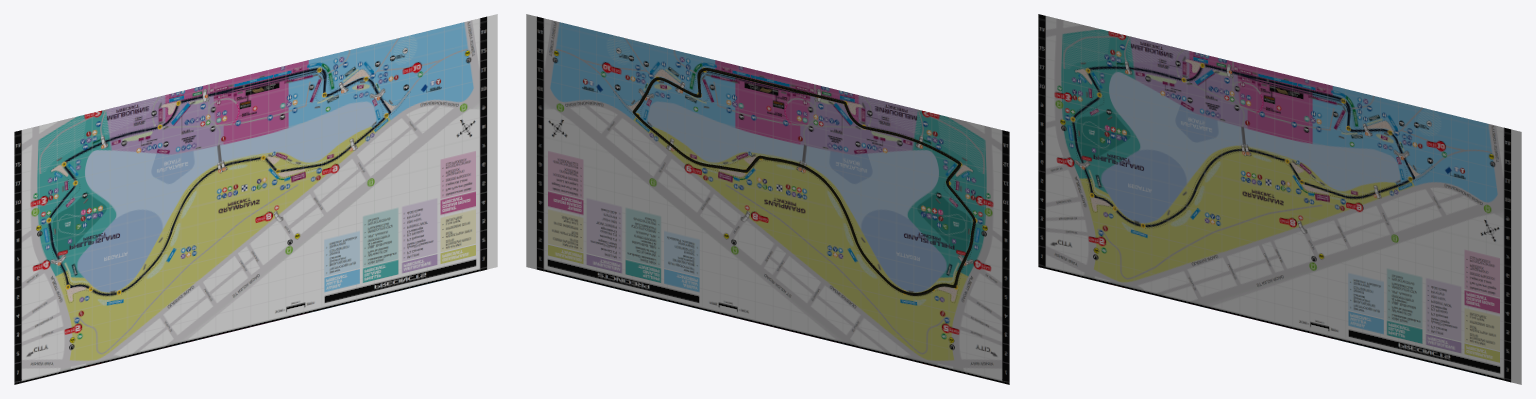
Rendered from AlbertParkAll.fbx.
3 views of the same model, side by side, from view 1: azimuth 30°, elevation 25°; view 2: azimuth 150°, elevation 25°; view 3: azimuth 330°, elevation 25° (orthographic).
Parts seen in each view (by area): view 1: 3_Map; view 2: 3_Map, 1_Track, 2_Skirt; view 3: 3_Map.
Boxes of the visible parts, x1,y1,x2,y2 form: 3_Map: (14,14,497,384); 3_Map: (526,14,1009,384); 1_Track: (633,68,975,295); 2_Skirt: (632,68,975,295); 3_Map: (1038,14,1521,384).
Size of the model in its own units: 282712 by 141420 by 1.03.
